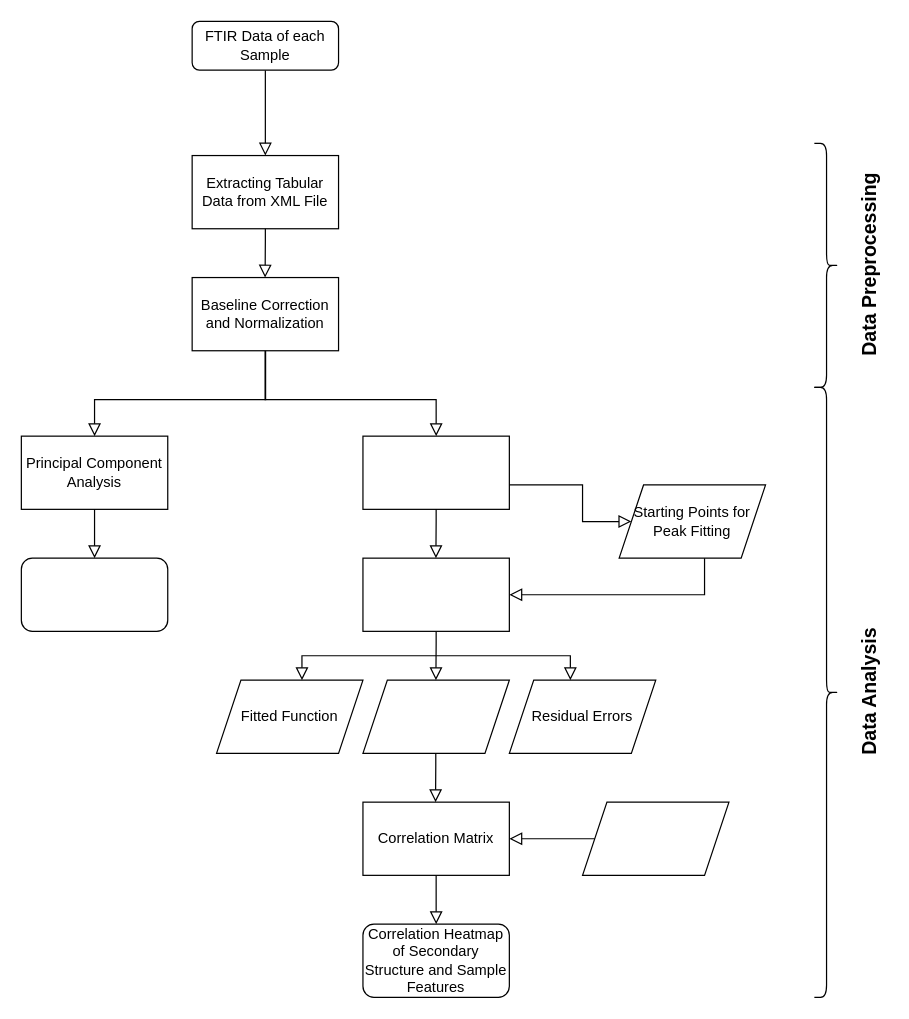
Some shapes in this 909 by 1019 pixel diagram are drawn without their labels. The box of each missing label's shape, as (x1, y1, x2, y2) in pixels:
General Information of a possible Correlation between Samples: (20, 557, 168, 631)
Peak Fitting: (362, 557, 509, 631)
Peak Identification via Second Derivative: (362, 435, 509, 509)
Peak Shapes: (362, 679, 509, 753)
Sample Features: (581, 801, 729, 875)
